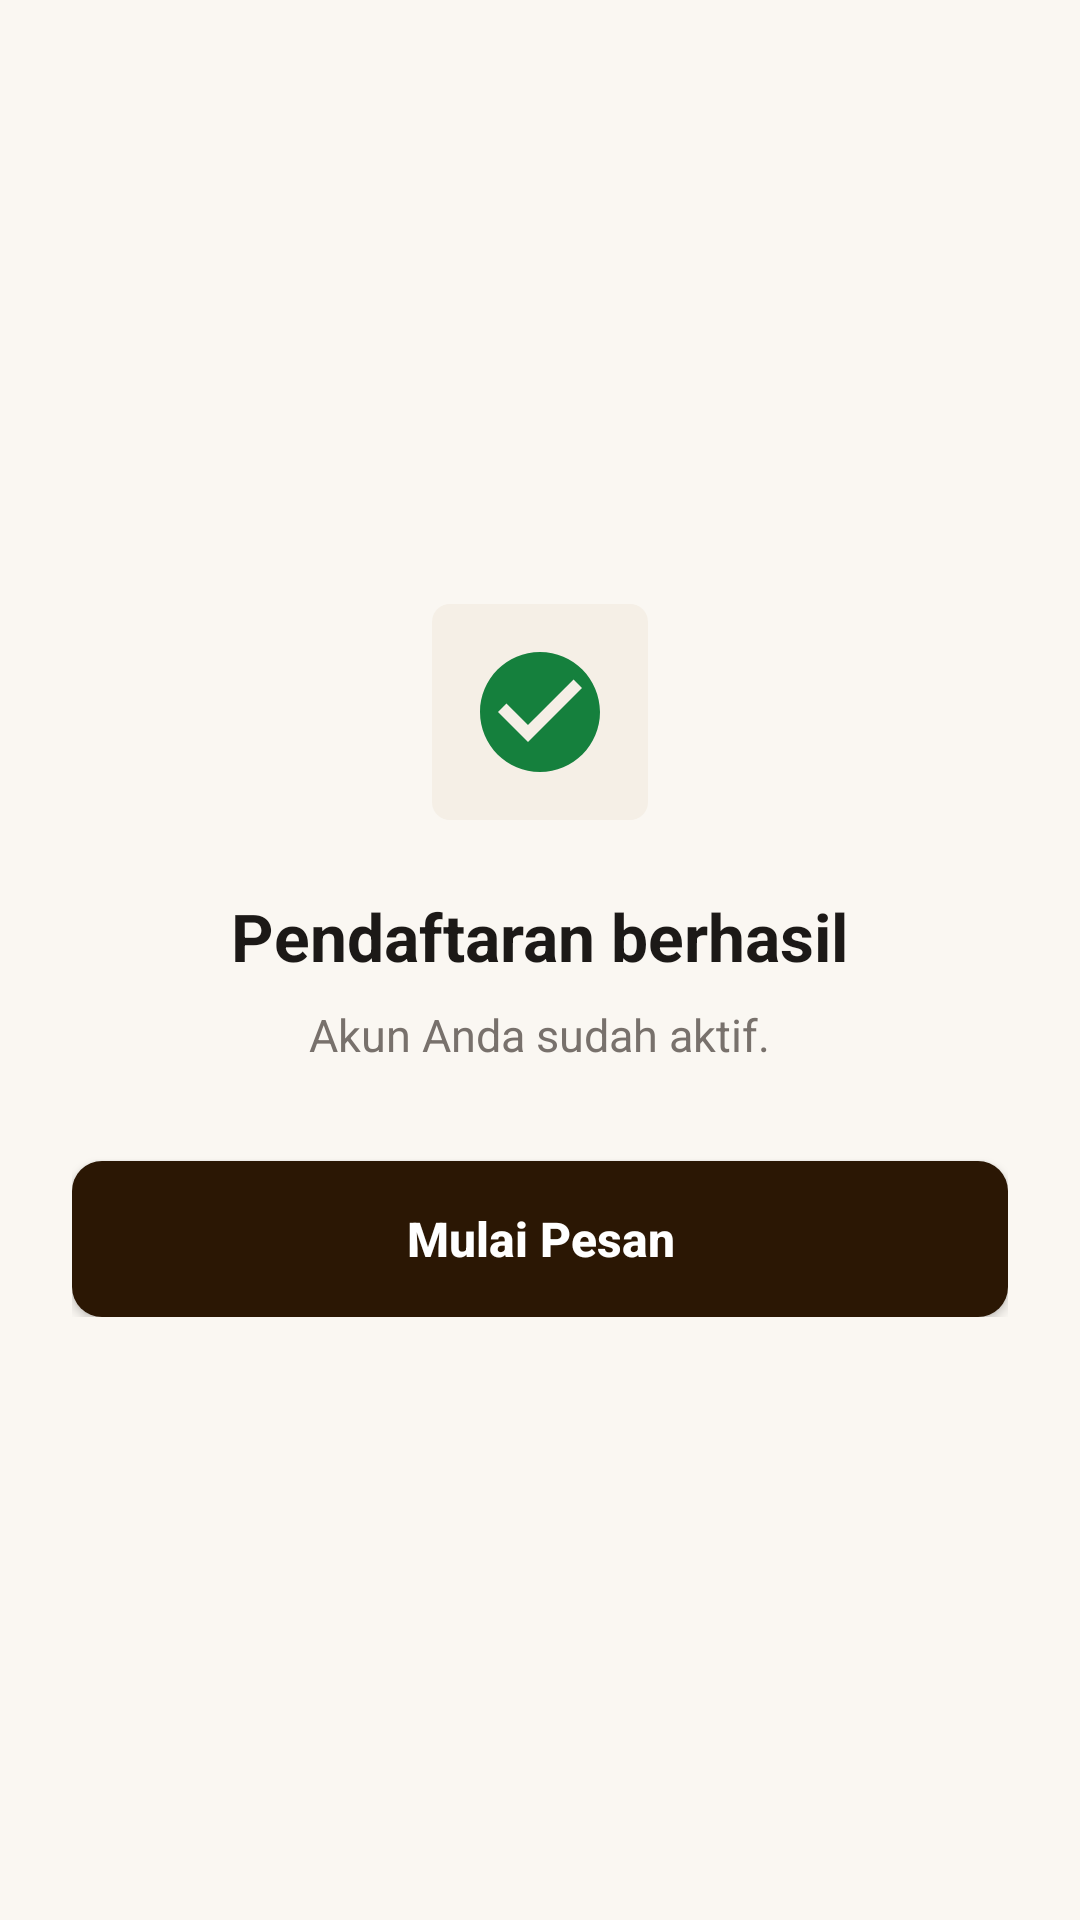

Icons on this 1080 x 1920 Android screen, each with its box as (x1, y1, x2, y2):
check circle: (480, 652, 600, 772)
